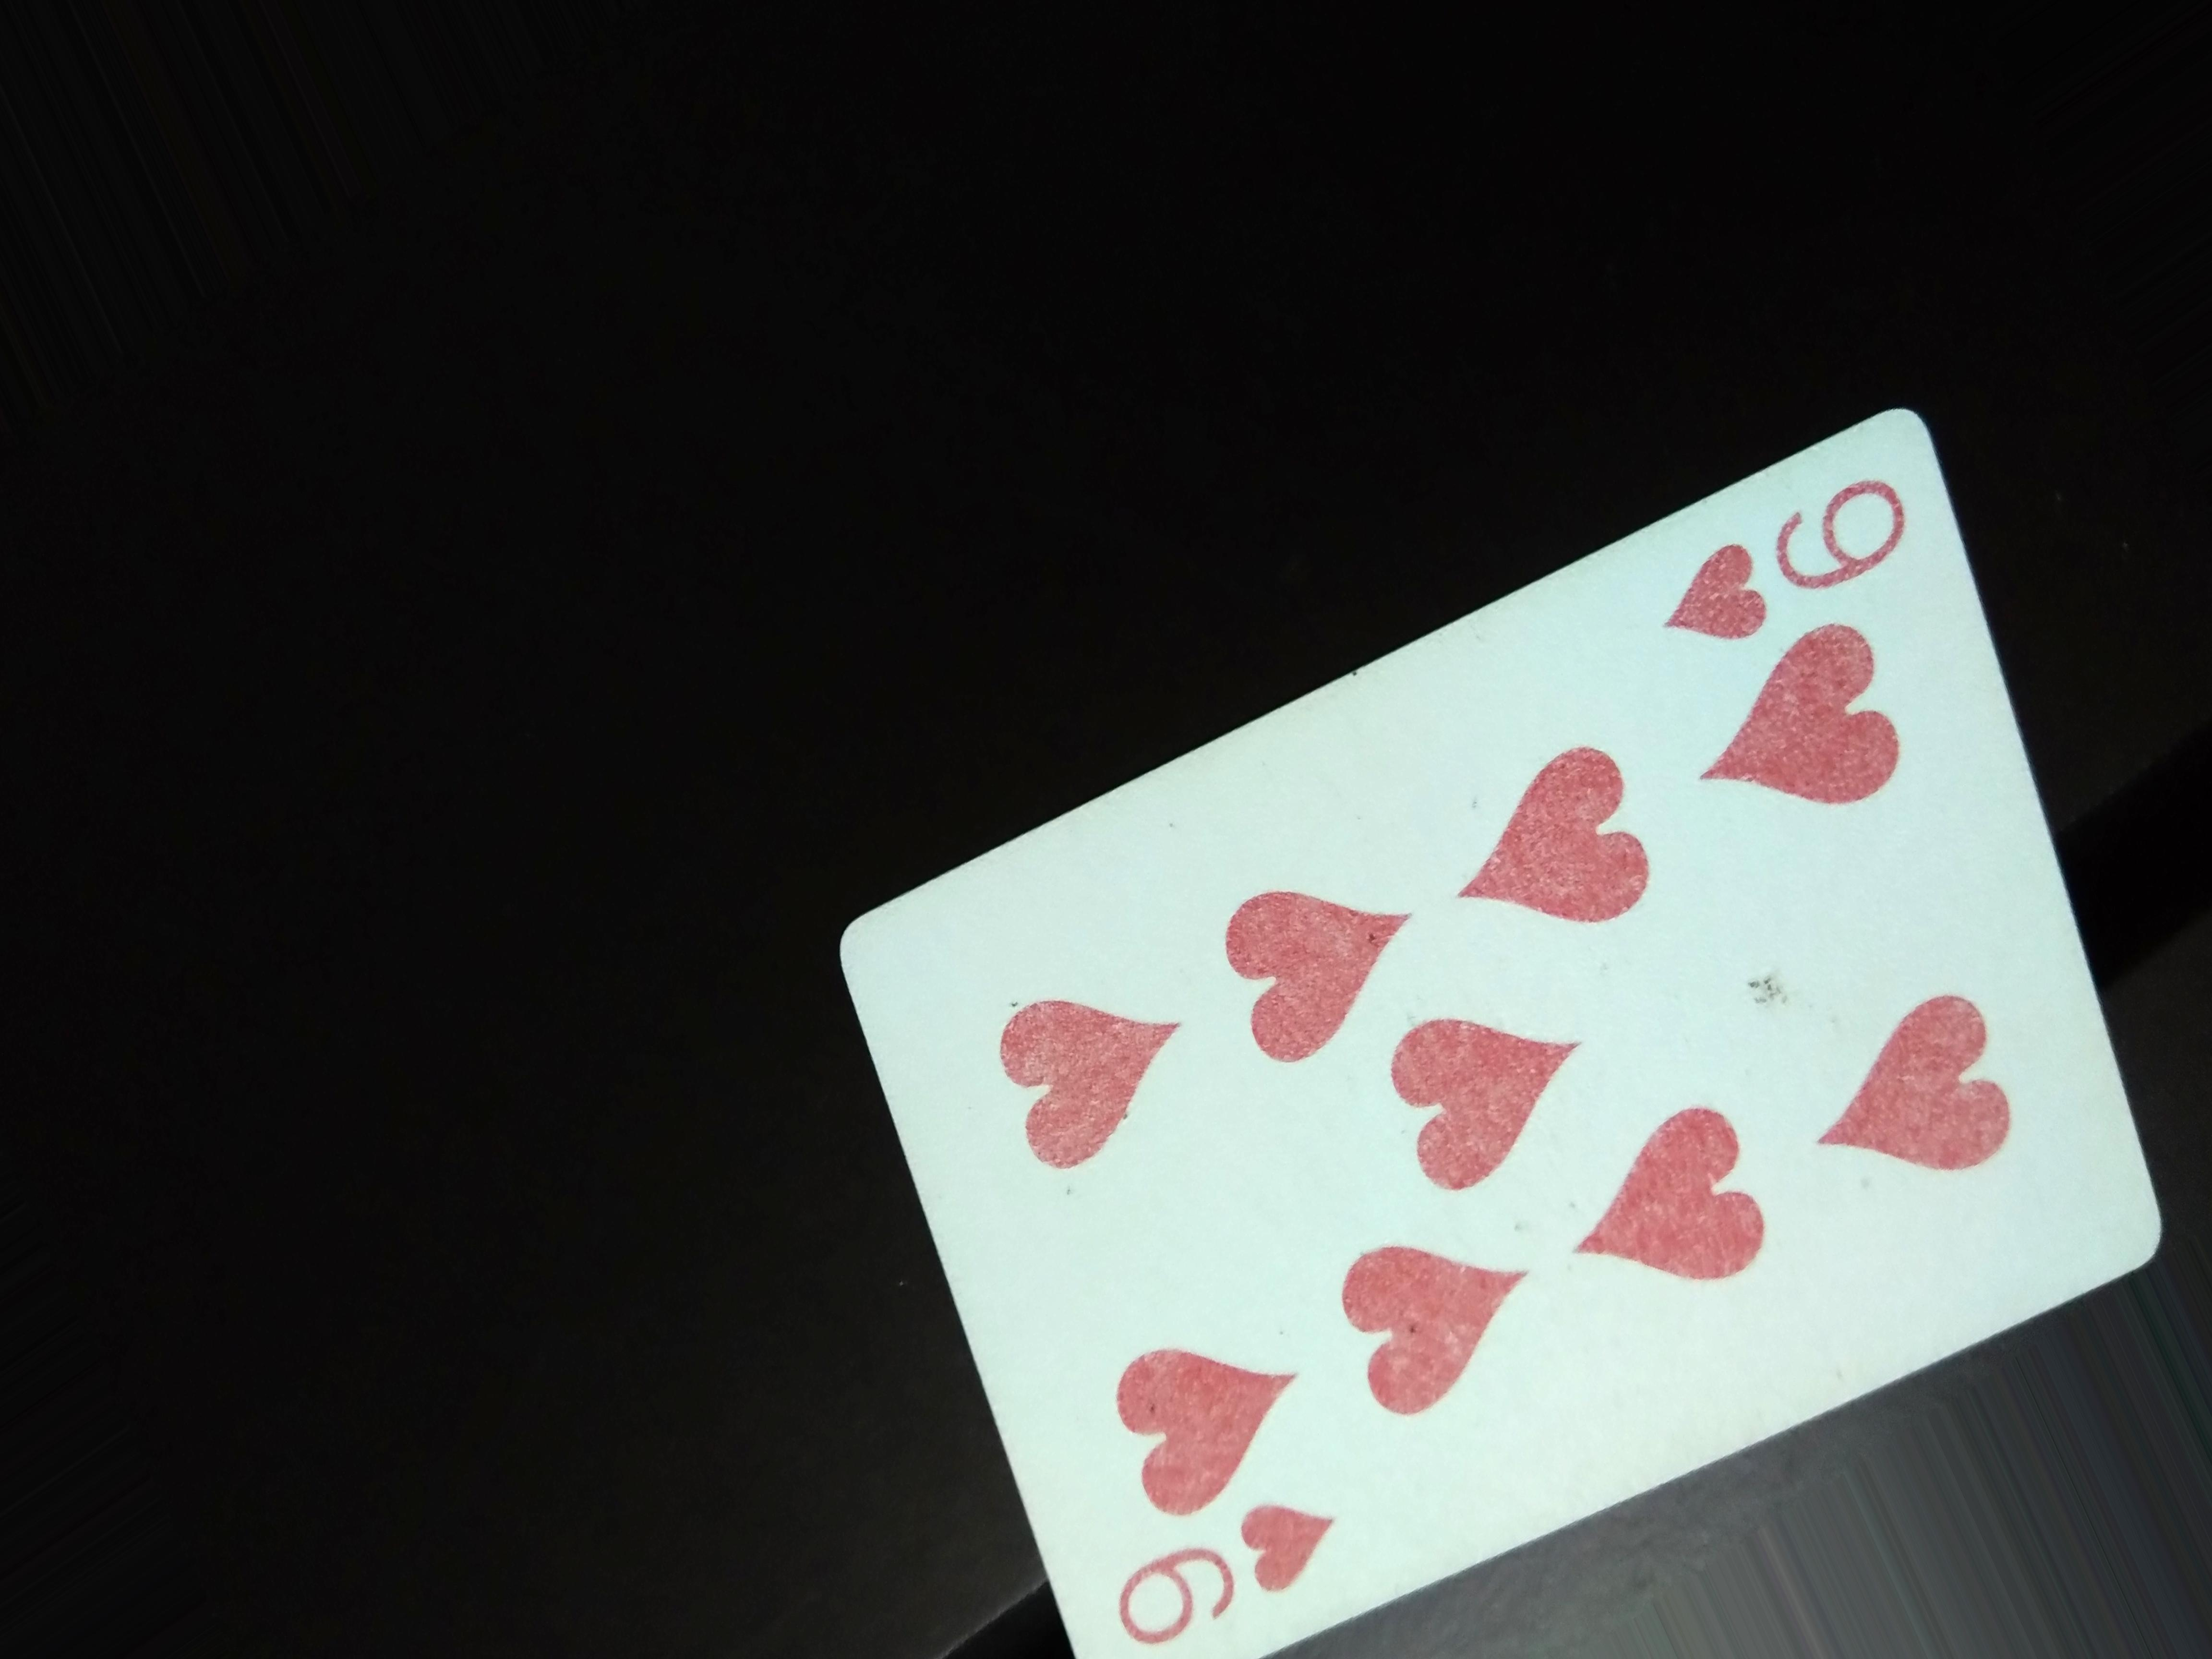9H: (1651, 457, 1919, 659)
